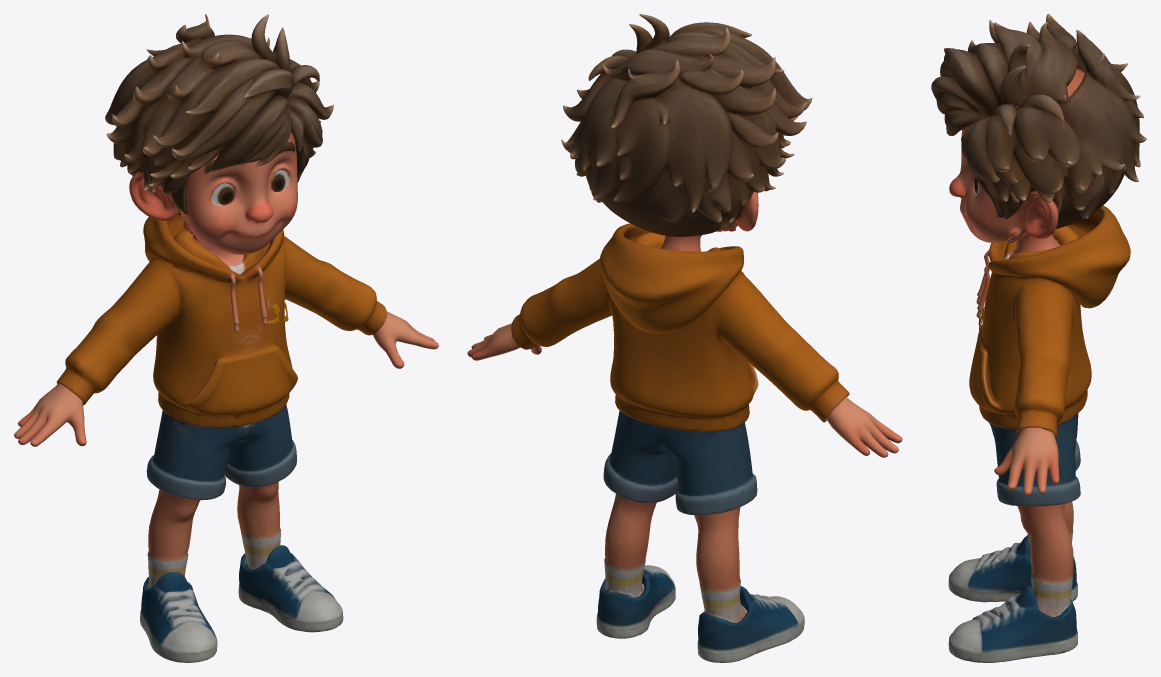
File: dania_raw.glb
The picture shows the model from 3 angles, left to right: view 1: azimuth 30°, elevation 25°; view 2: azimuth 150°, elevation 25°; view 3: azimuth 270°, elevation 25°; orthographic projection. The views are drawn at different scales.
Parts seen in each view (by area): view 1: world; view 2: world; view 3: world.
Boxes of the visible parts, x1,y1,x2,y2 form: world: [14, 14, 438, 662]; world: [467, 14, 902, 662]; world: [931, 14, 1146, 662].
Size of the model in its own units: 0.7349 by 1 by 0.3283.
Materials: 1 (1 with a texture image).
